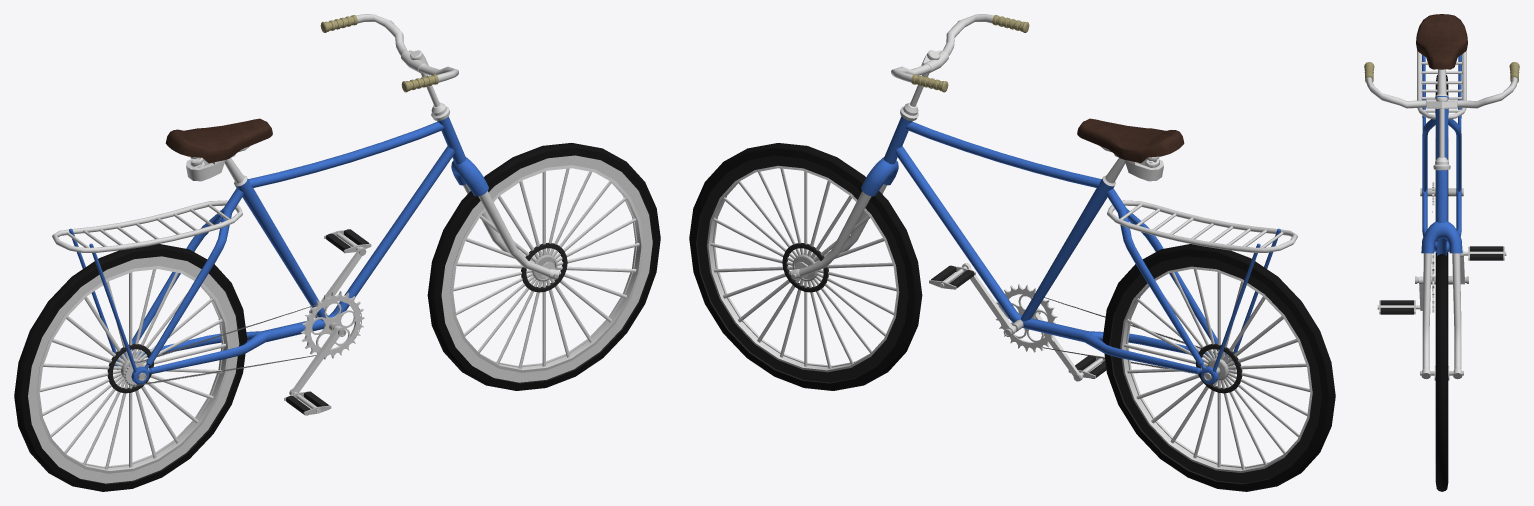
File: blueBike.fbx
3 views of the same model, side by side, from view 1: azimuth 30°, elevation 25°; view 2: azimuth 150°, elevation 25°; view 3: azimuth 270°, elevation 25° (orthographic). The views are drawn at different scales.
Parts seen in each view (by area): view 1: blueBike_NoMove; view 2: blueBike_NoMove; view 3: blueBike_NoMove.
Boxes of the visible parts, x1,y1,x2,y2 form: blueBike_NoMove: [14, 14, 660, 491]; blueBike_NoMove: [689, 14, 1335, 491]; blueBike_NoMove: [1364, 14, 1519, 491].
Size of the model in its own units: 2.57 by 1.44 by 0.5974.
